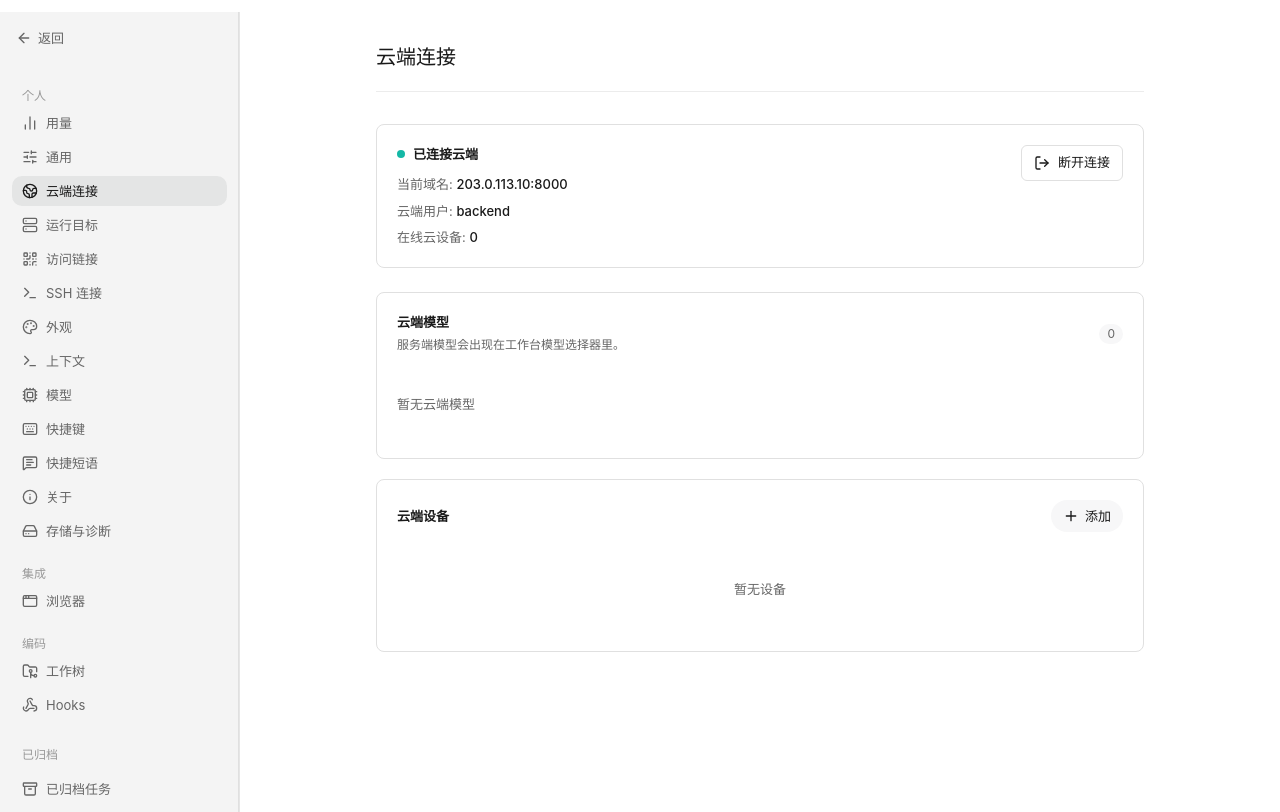
it: ConnectionsSettingsPage › combines phone pairing and browser access under Access links
Step 1. Click the button with test id "settings-nav-access-links" → {"x": 120, "y": 259}, box [12,244,227,274]
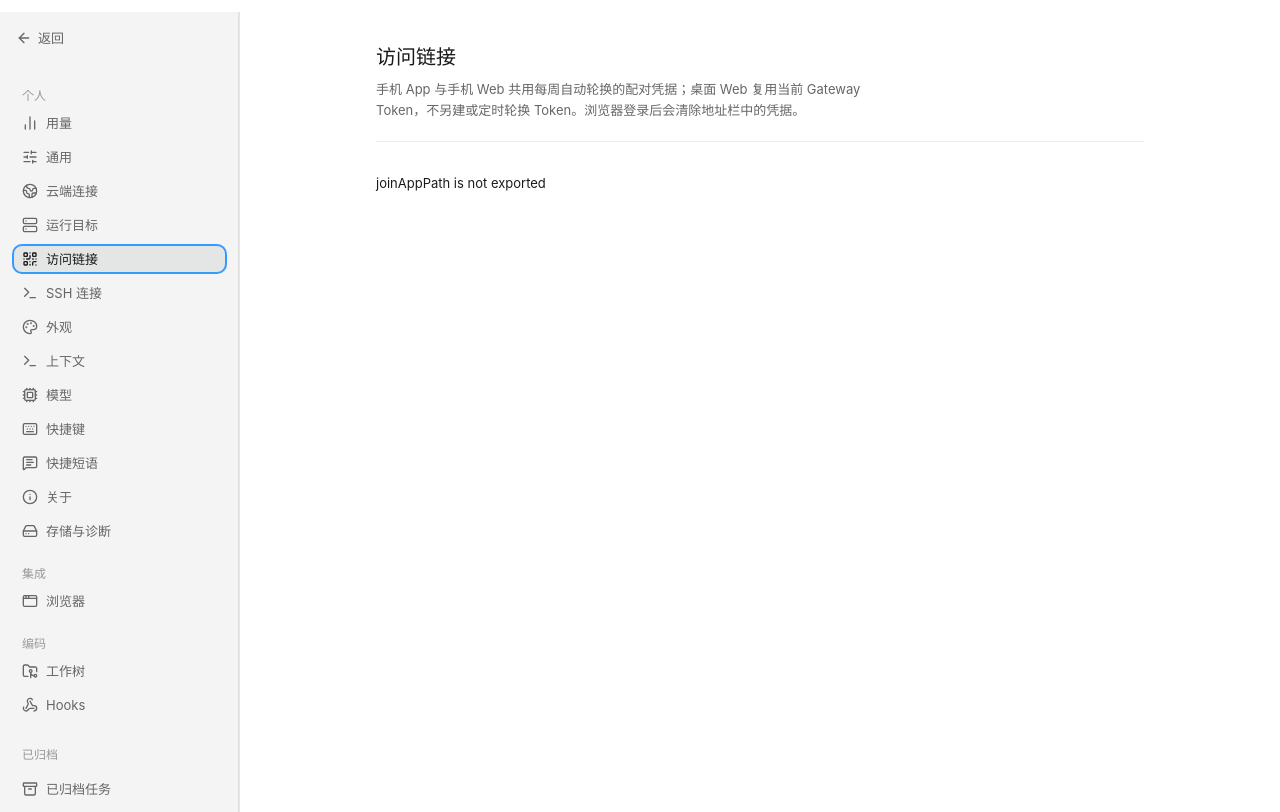
Expected: the element with test id "browser-access-settings-page" is shown, [376,44,1144,248]
